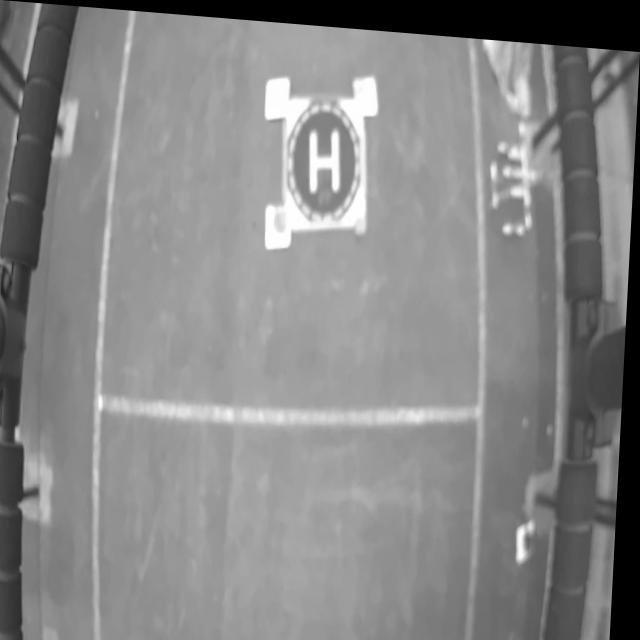Helipad: (310, 125, 342, 189)
